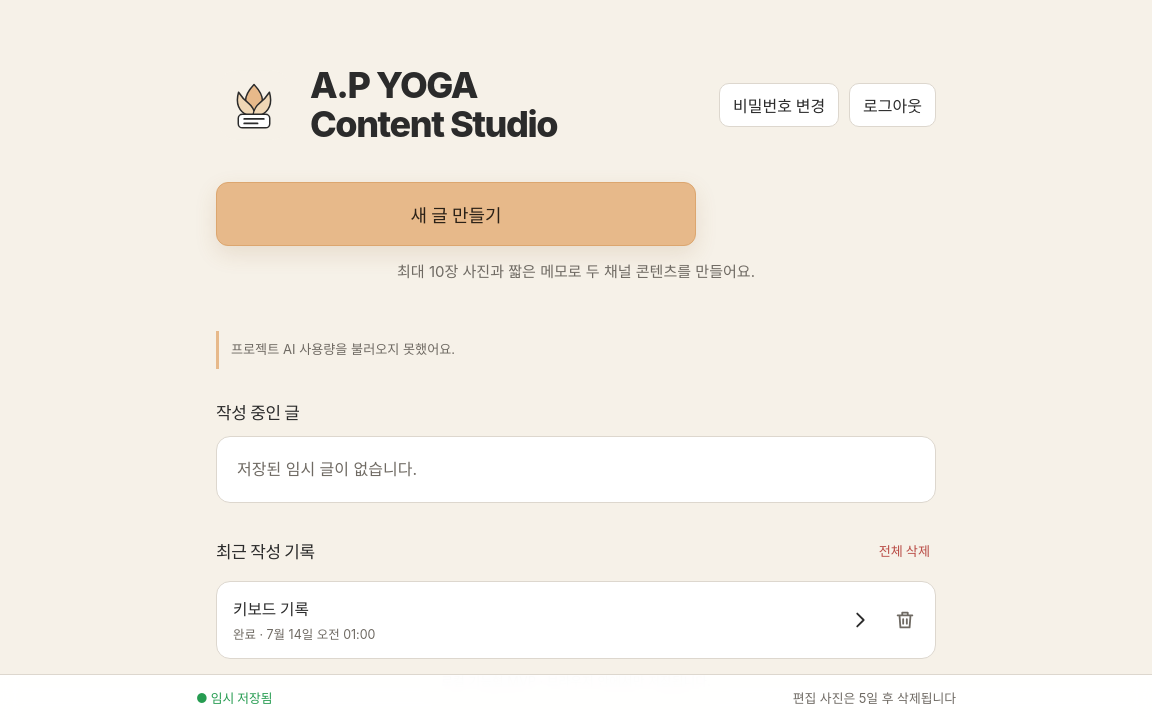
Scenario: history deletion › closes the confirmation dialog with Escape
This screenshot has width=1152, height=720.
Check: the text "키보드 기록" is shown, box [233,600,309,618]
Click the button named "키보드 기록 삭제" at (905, 620), box [883,598,927,642]
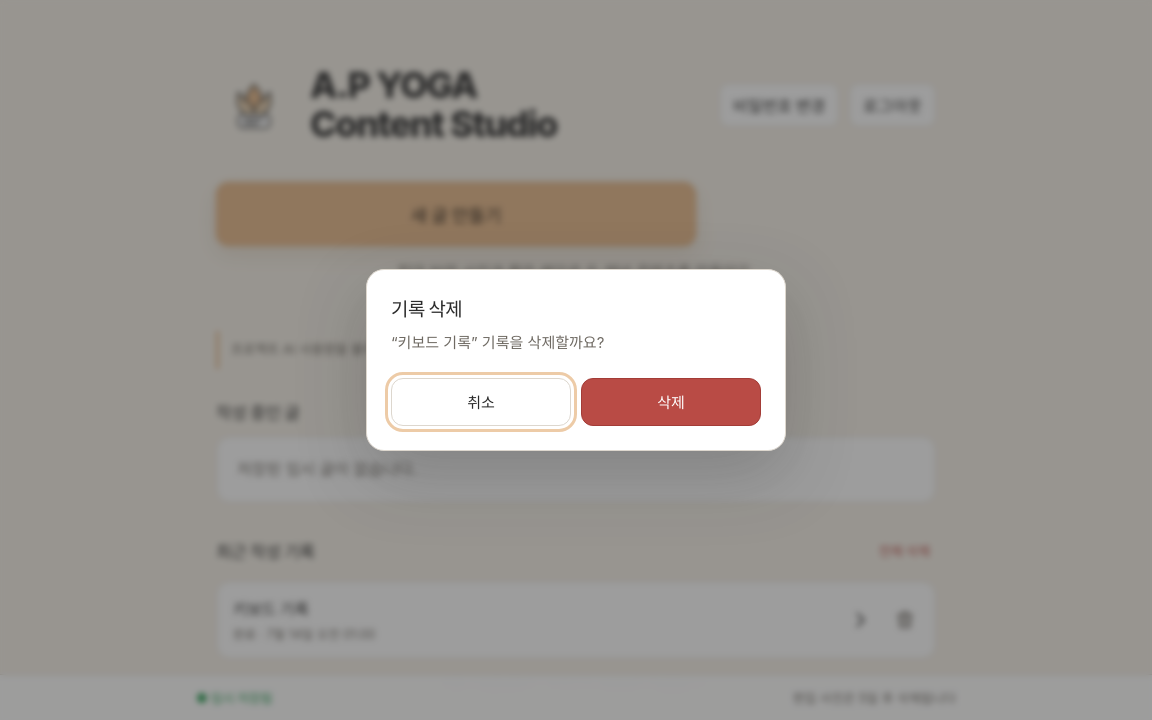
Press Escape in the dialog, box [366,270,786,451]
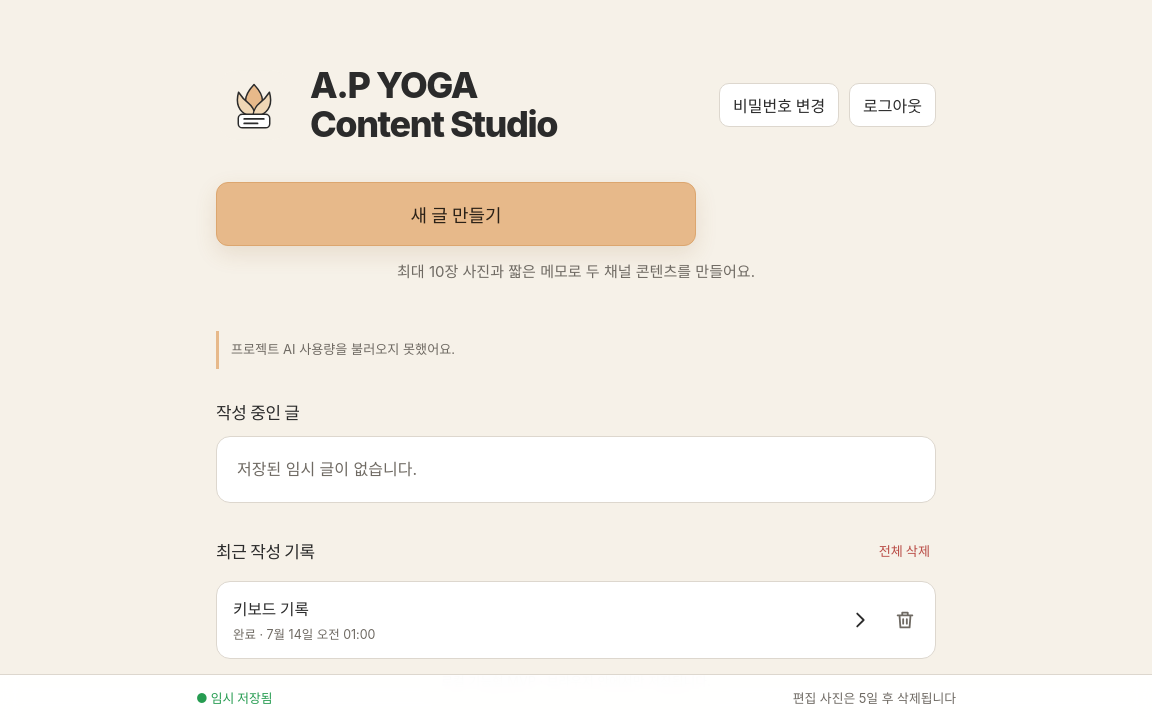
Check: the dialog is gone
